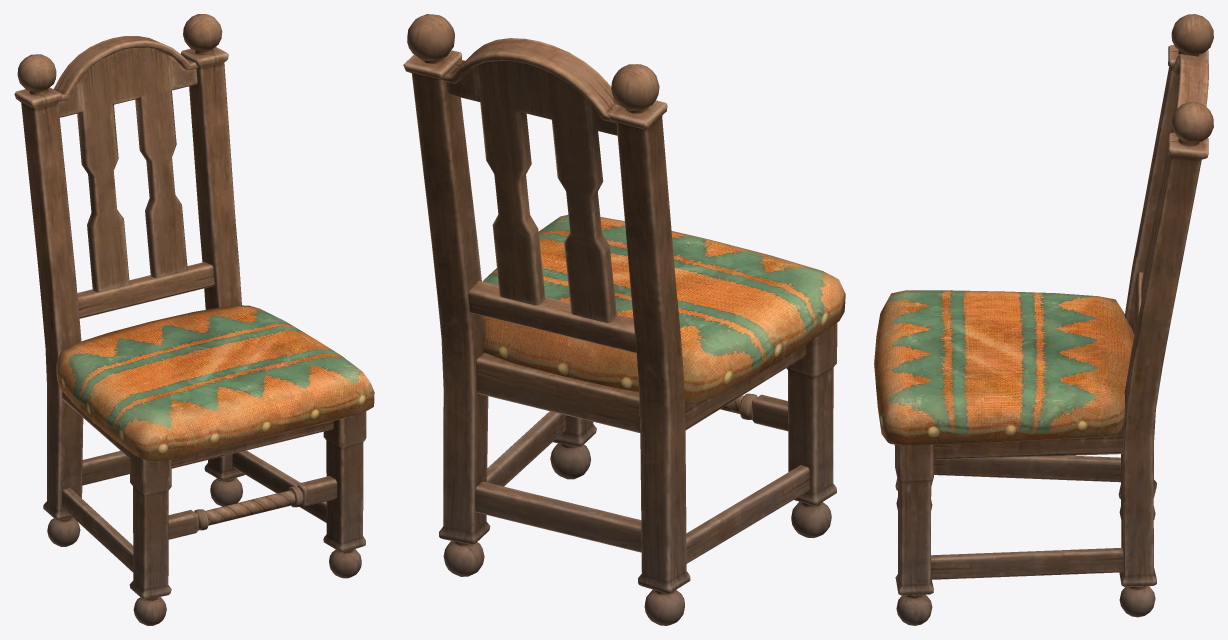
3 renders of one model, left to right at view 1: azimuth 30°, elevation 25°; view 2: azimuth 150°, elevation 25°; view 3: azimuth 270°, elevation 25°, orthographic. The views are drawn at different scales.
Visible parts, largest first — view 1: SM_Umbral_Sands_Chair_01v1_LOD0; view 2: SM_Umbral_Sands_Chair_01v1_LOD0; view 3: SM_Umbral_Sands_Chair_01v1_LOD0.
Part boxes in pixels (x1,y1,x2,y2): SM_Umbral_Sands_Chair_01v1_LOD0: (14, 14, 374, 625); SM_Umbral_Sands_Chair_01v1_LOD0: (403, 14, 845, 625); SM_Umbral_Sands_Chair_01v1_LOD0: (874, 14, 1213, 625).
Bounding box in the file's own units: 0.615 × 1.17 × 0.7014.
1 material, 1 textured.
